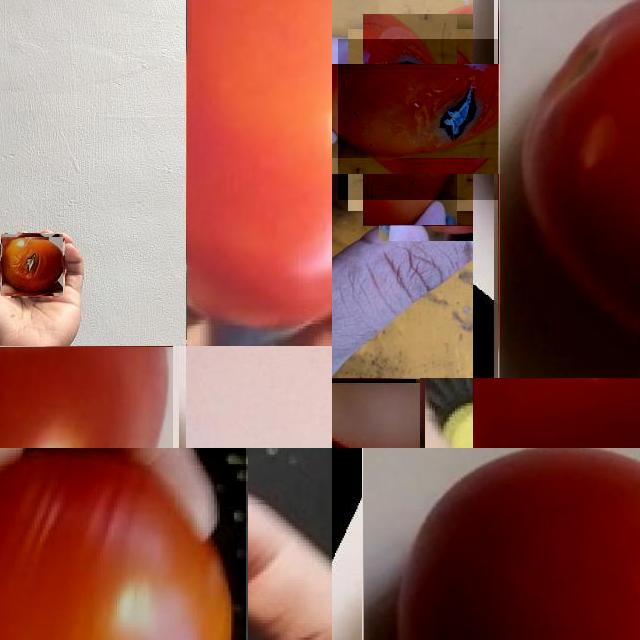0: (362, 448, 640, 640)
Fresh Tomato: (498, 0, 640, 378), (186, 0, 332, 346), (0, 346, 173, 448)
Rotten Tomato: (0, 448, 246, 640), (338, 39, 498, 200), (1, 234, 63, 296)
